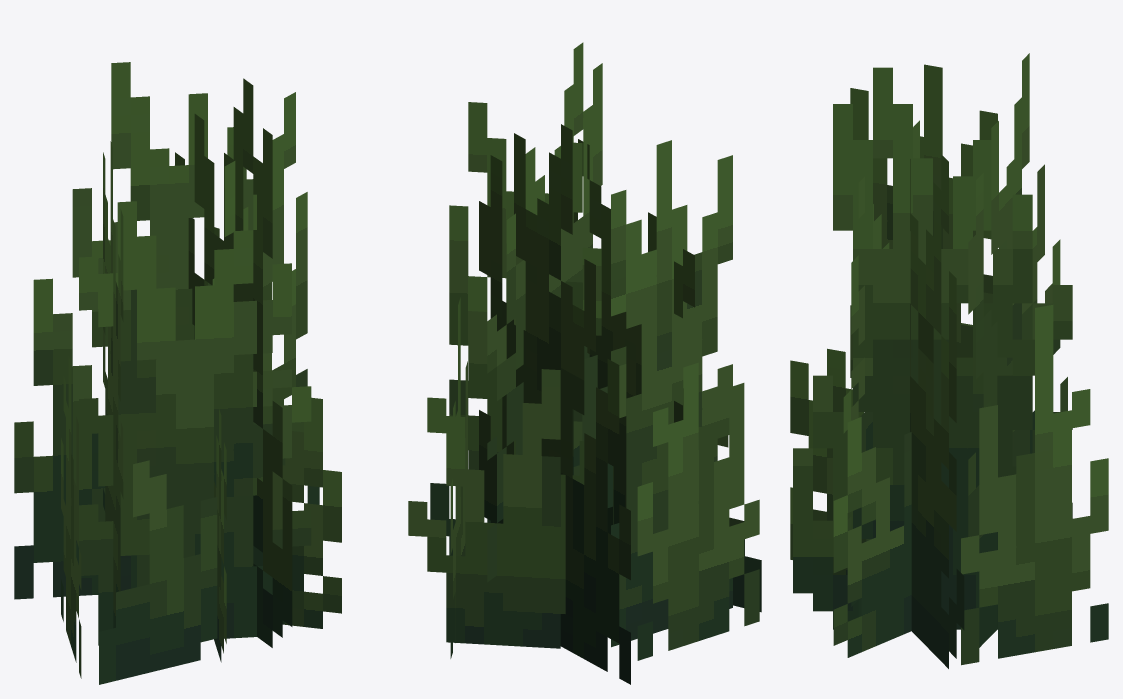
The model's file is tall-grass-1.gltf.
3 views of the same model, side by side, from view 1: azimuth 30°, elevation 25°; view 2: azimuth 150°, elevation 25°; view 3: azimuth 270°, elevation 25° (orthographic). The views are drawn at different scales.
Visible parts, largest first — view 1: cube; view 2: cube; view 3: cube.
Boxes of the visible parts, <box> form: cube: <box>14,62,341,684</box>; cube: <box>408,42,761,684</box>; cube: <box>790,53,1108,668</box>.
Size of the model in its own units: 1.06 by 1.94 by 0.9958.
1 material, 1 textured.
